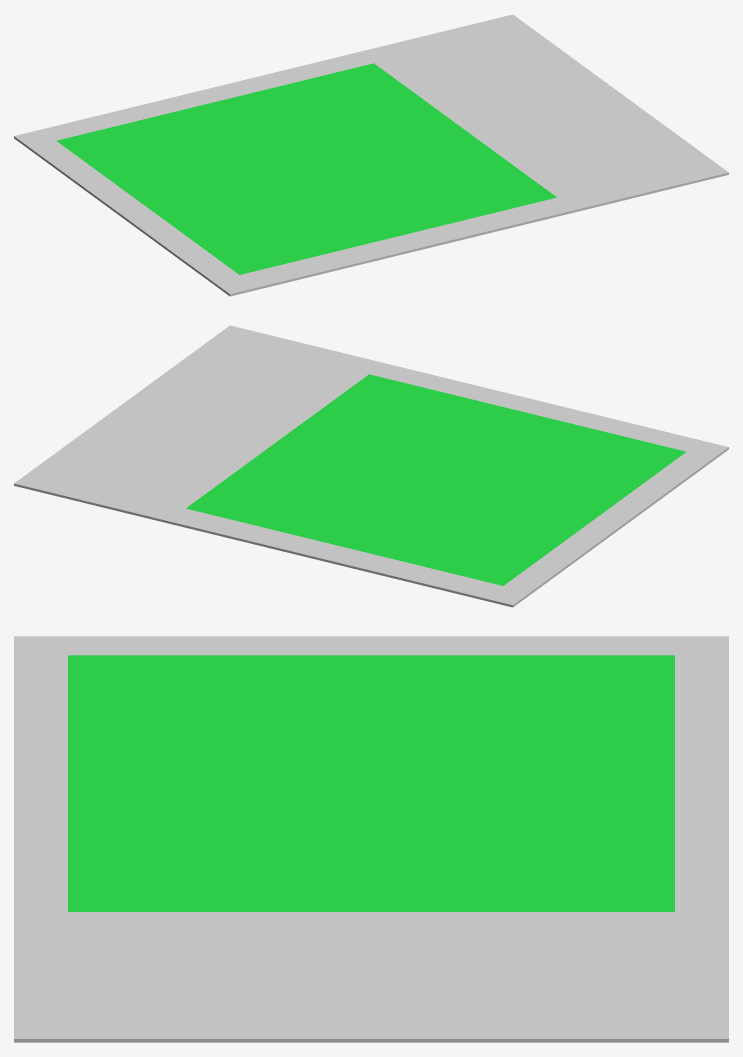
The model's file is pictureFrame-model.fbx.
The picture shows the model from 3 angles, top to bottom: view 1: azimuth 30°, elevation 25°; view 2: azimuth 150°, elevation 25°; view 3: azimuth 270°, elevation 25°; orthographic projection. The views are drawn at different scales.
Parts seen in each view (by area): view 1: pictureFrame; view 2: pictureFrame; view 3: pictureFrame.
Boxes of the visible parts, <box> form: pictureFrame: <box>14,14,728,296</box>; pictureFrame: <box>14,325,728,607</box>; pictureFrame: <box>14,636,728,1042</box>.
Bounding box in the file's own units: 0.16 × 0.001 × 0.12.
